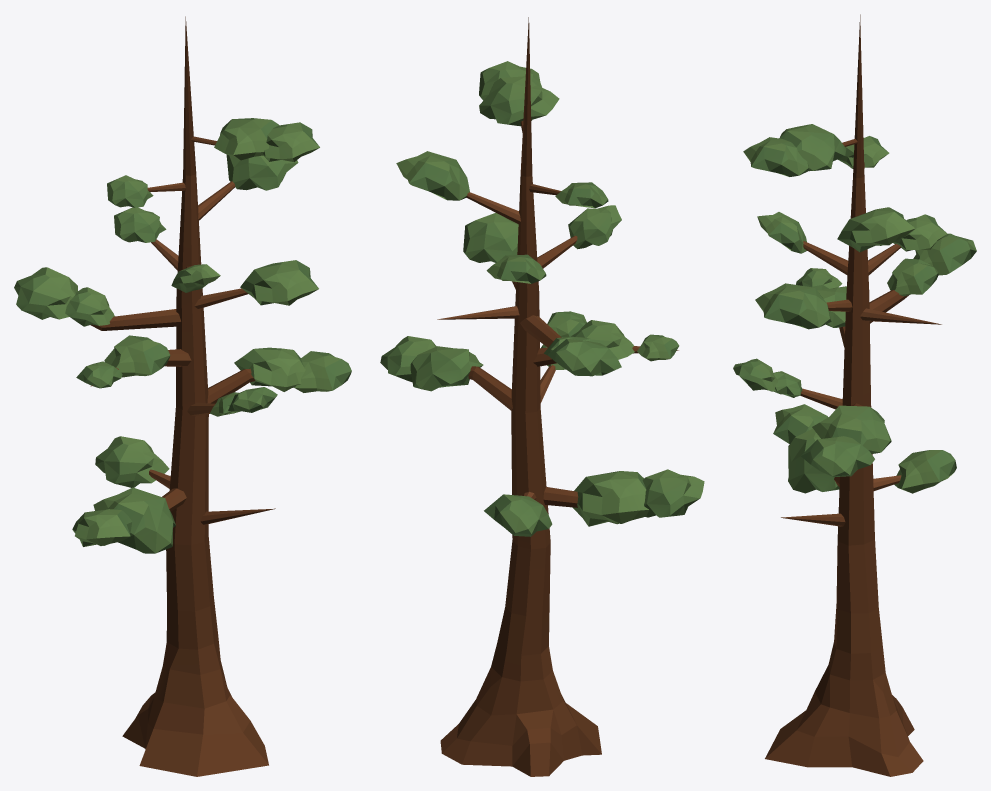
The model's file is DesertTree.fbx.
3 views of the same model, side by side, from view 1: azimuth 30°, elevation 25°; view 2: azimuth 150°, elevation 25°; view 3: azimuth 270°, elevation 25° (orthographic).
Parts seen in each view (by area): view 1: DesertTree; view 2: DesertTree; view 3: DesertTree.
Part boxes in pixels (x1,y1,x2,y2): DesertTree: (14,16,351,776); DesertTree: (380,17,704,776); DesertTree: (733,14,976,776).
Bounding box in the file's own units: 1540 × 3648 × 1105.
